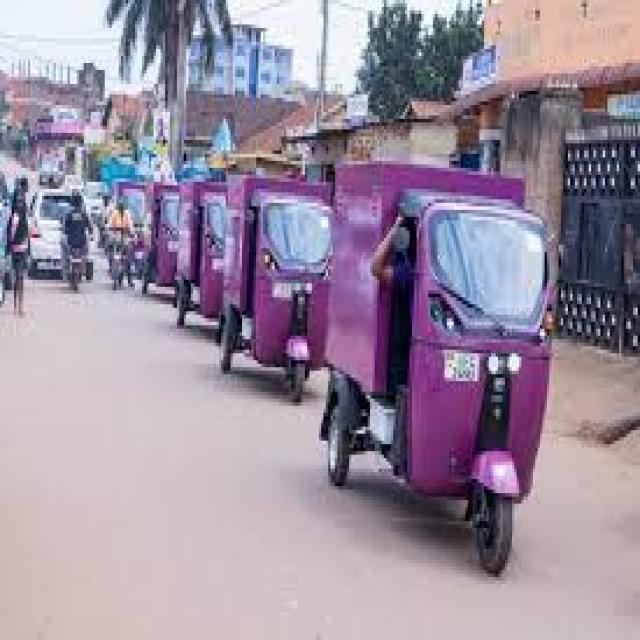tuktuk: (319, 115, 592, 596), (212, 138, 347, 418)
